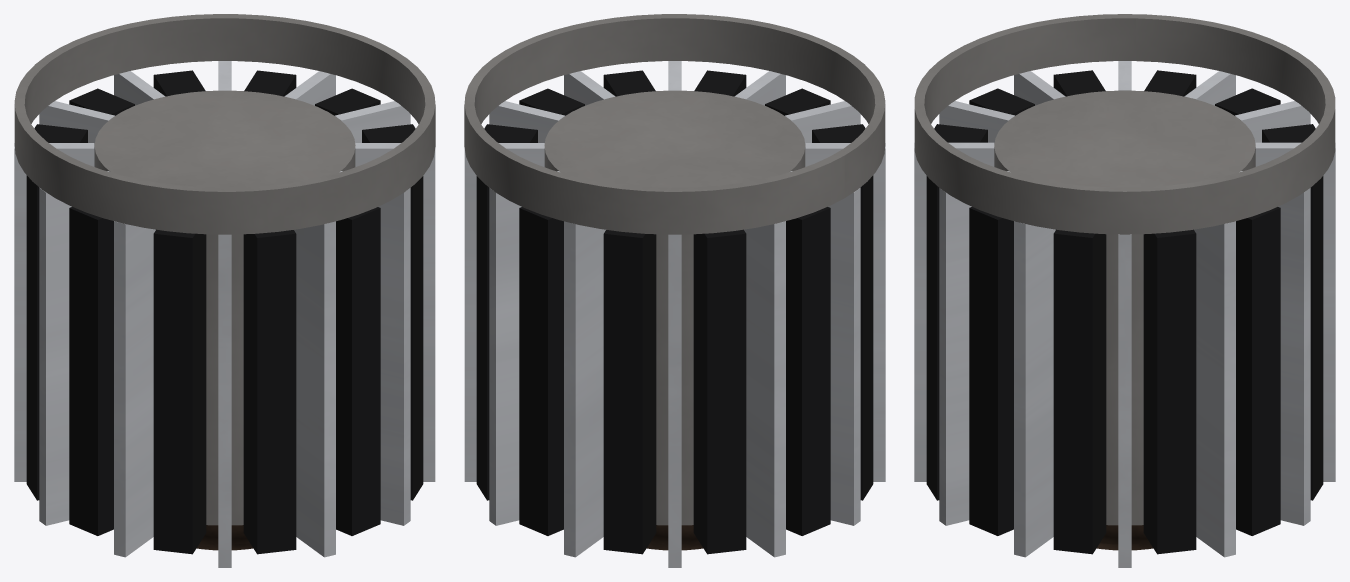
The model's file is stage16_deployable_heat_shield_m.glb.
The picture shows the model from 3 angles, left to right: view 1: azimuth 30°, elevation 25°; view 2: azimuth 150°, elevation 25°; view 3: azimuth 270°, elevation 25°; orthographic projection.
Parts seen in each view (by area): view 1: fabric_folded, payload_ring, ribs_folded, nose_cap; view 2: fabric_folded, payload_ring, ribs_folded, nose_cap; view 3: fabric_folded, payload_ring, ribs_folded, nose_cap.
Boxes of the visible parts, box(x1,y1,x2,y2) form: fabric_folded: box(26, 70, 423, 554); payload_ring: box(14, 14, 435, 525); ribs_folded: box(14, 61, 435, 567); nose_cap: box(196, 525, 253, 550); fabric_folded: box(476, 70, 873, 554); payload_ring: box(464, 14, 885, 525); ribs_folded: box(464, 61, 885, 567); nose_cap: box(646, 525, 703, 550); fabric_folded: box(926, 70, 1323, 554); payload_ring: box(914, 14, 1335, 525); ribs_folded: box(914, 61, 1335, 567); nose_cap: box(1096, 525, 1153, 550).
Bounding box in the file's own units: 1.25 × 1.4 × 1.25.
4 materials, 3 textured.
